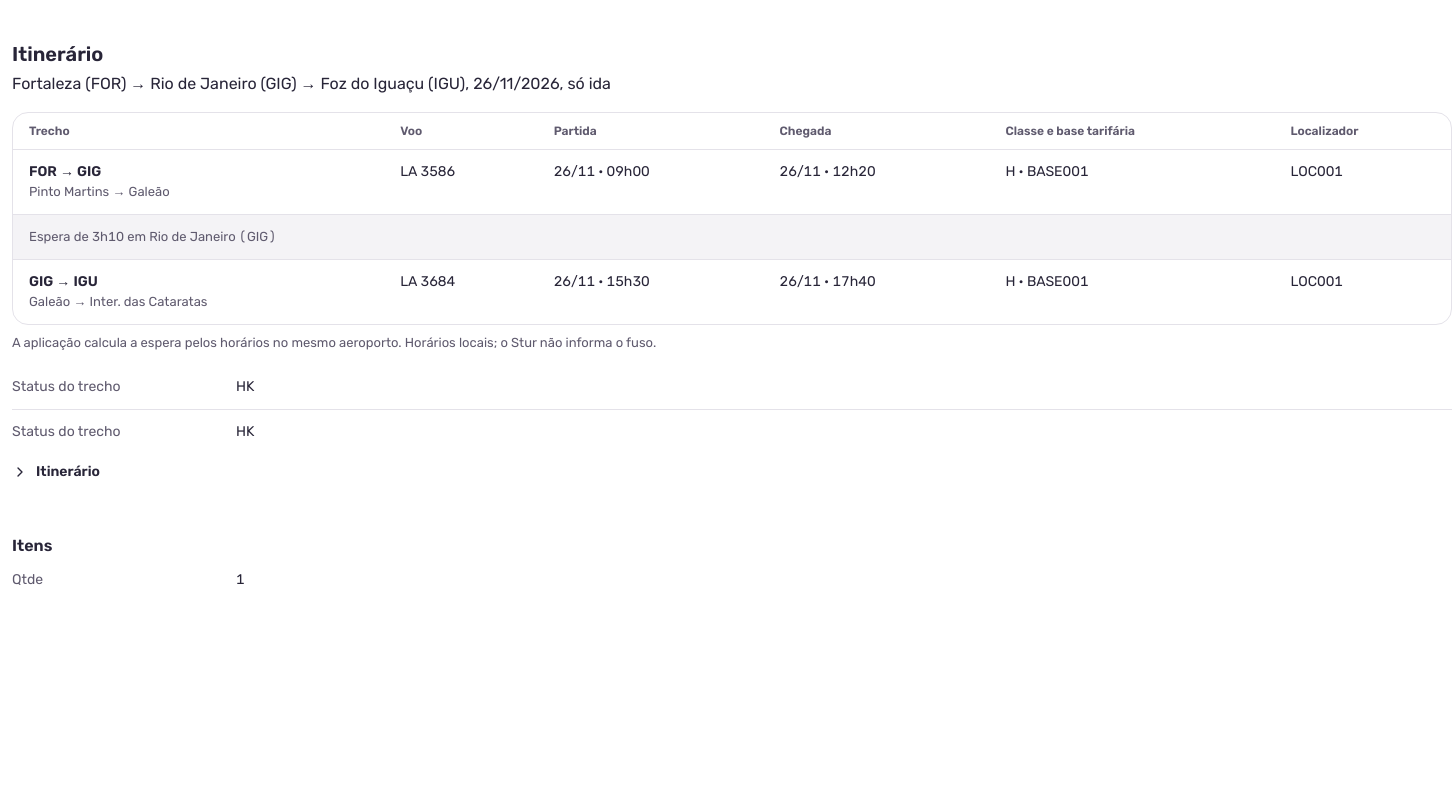
Test: Itinerário › conexão e fuso ficam num details chamado Itinerário; o visível vira par sem título
Expected: the 1st text "Status do trecho" is shown, [12,378,121,395]
Click the 2nd heading "Itinerário" at (56, 472), box [12,463,100,480]
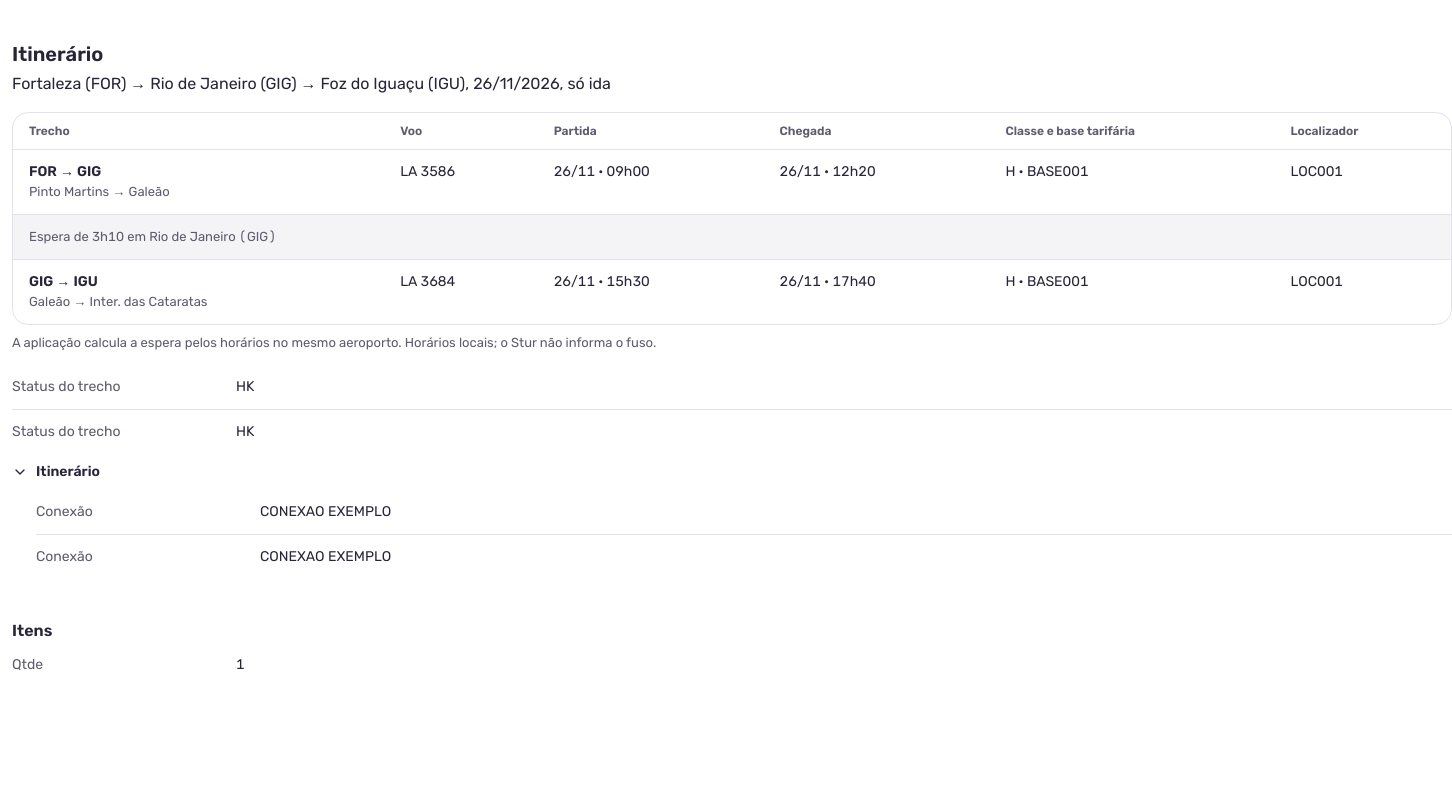
Expected: the 1st text "Conexão" is shown, [36,503,93,520]
